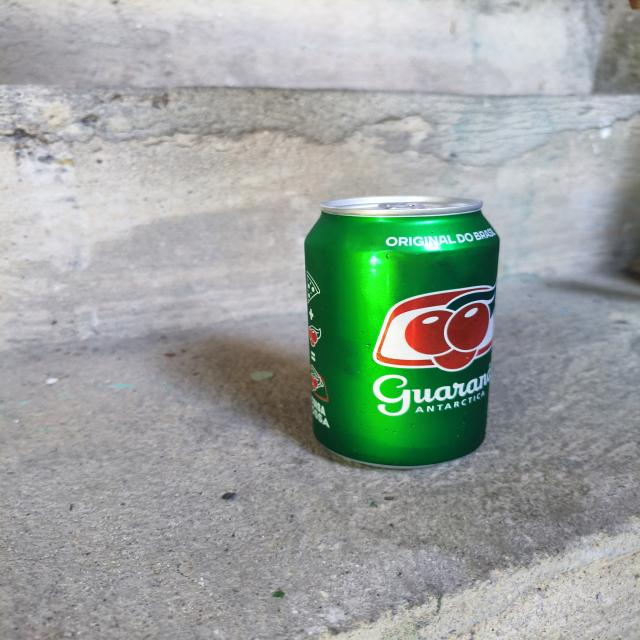Guarana: (286, 179, 516, 472)
